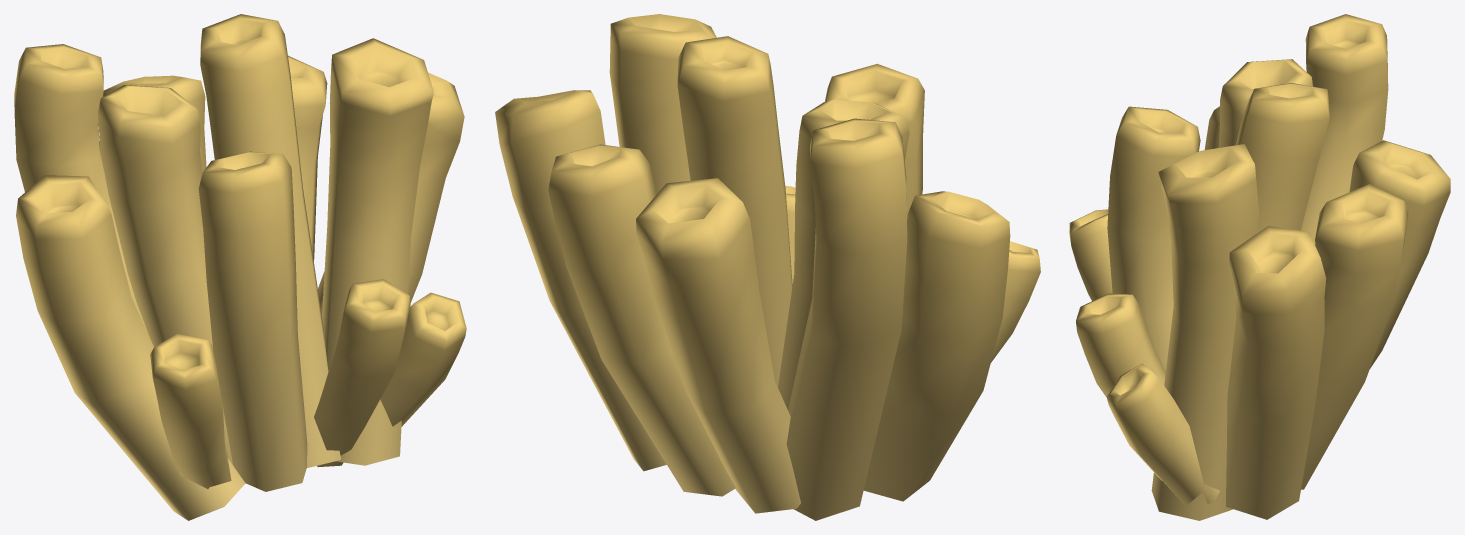
File: CoralBA.fbx
3 views of the same model, side by side, from view 1: azimuth 30°, elevation 25°; view 2: azimuth 150°, elevation 25°; view 3: azimuth 270°, elevation 25° (orthographic). The views are drawn at different scales.
Visible parts, largest first — view 1: CoralBA; view 2: CoralBA; view 3: CoralBA.
Part boxes in pixels (<box>): CoralBA: <box>14,14,466,520</box>; CoralBA: <box>495,14,1040,520</box>; CoralBA: <box>1069,14,1450,520</box>.
Size of the model in its own units: 37.71 by 33.96 by 29.32.
Materials: 1 (1 with a texture image).
